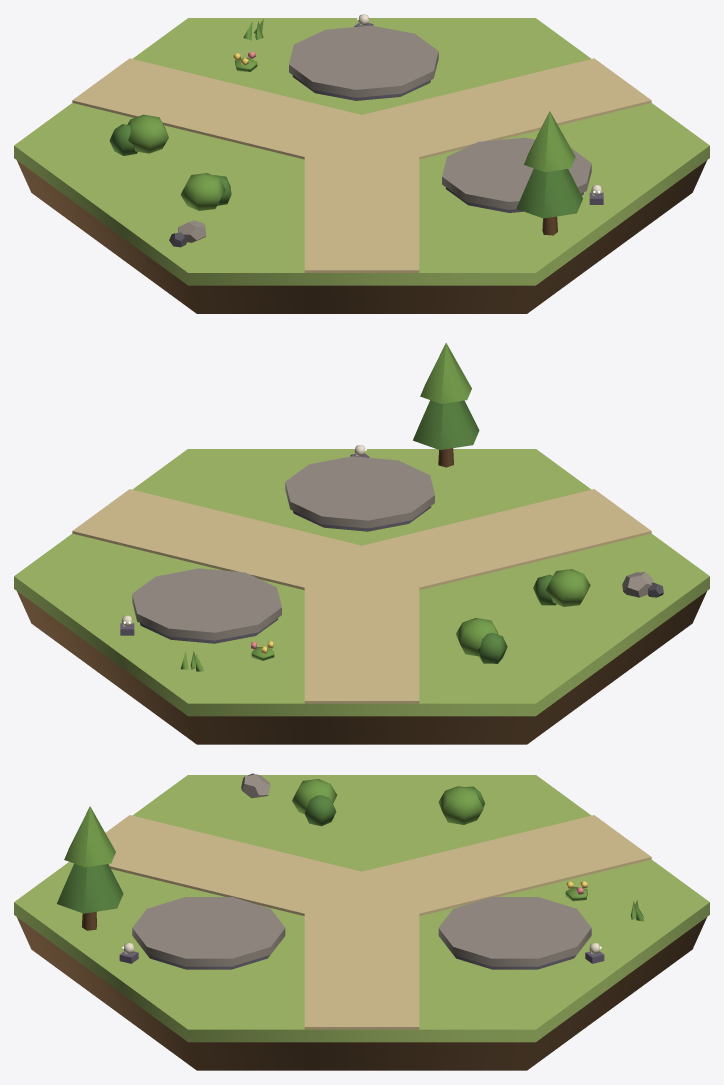
Rendered from tile_soulFork.glb.
The picture shows the model from 3 angles, top to bottom: view 1: azimuth 30°, elevation 25°; view 2: azimuth 150°, elevation 25°; view 3: azimuth 270°, elevation 25°; orthographic projection.
Parts seen in each view (by area): view 1: ground, road, ground_soil, tower_slot_1_plate, tower_slot_2_plate, deco_tree_3_crown, road_hub, deco_tree_3_crown_b, deco_bush_5_a, deco_bush_0_a, deco_bush_0_b, tower_slot_1_socket; view 2: ground, road, ground_soil, tower_slot_2_plate, tower_slot_1_plate, deco_tree_3_crown, road_hub, deco_tree_3_crown_b, deco_bush_5_a, deco_bush_0_a, deco_bush_0_b, deco_stone_2_a; view 3: ground, road, ground_soil, tower_slot_1_plate, tower_slot_2_plate, deco_tree_3_crown, deco_tree_3_crown_b, deco_bush_0_a, road_hub, deco_bush_5_a, deco_bush_5_b, deco_stone_2_a.
Part boxes in pixels (<box>): ground: <box>14,18,709,285</box>; road: <box>72,58,651,272</box>; ground_soil: <box>17,160,706,313</box>; tower_slot_1_plate: <box>289,25,438,97</box>; tower_slot_2_plate: <box>442,137,591,209</box>; deco_tree_3_crown: <box>516,168,582,218</box>; road_hub: <box>308,119,414,167</box>; deco_tree_3_crown_b: <box>524,111,575,172</box>; deco_bush_5_a: <box>180,173,225,210</box>; deco_bush_0_a: <box>127,114,168,153</box>; deco_bush_0_b: <box>109,124,137,155</box>; tower_slot_1_socket: <box>292,75,430,100</box>; ground: <box>14,449,709,716</box>; road: <box>72,489,651,703</box>; ground_soil: <box>17,591,706,744</box>; tower_slot_2_plate: <box>285,456,434,528</box>; tower_slot_1_plate: <box>132,568,281,640</box>; deco_tree_3_crown: <box>413,400,479,449</box>; road_hub: <box>306,549,414,597</box>; deco_tree_3_crown_b: <box>420,343,471,403</box>; deco_bush_5_a: <box>545,569,590,606</box>; deco_bush_0_a: <box>456,618,498,656</box>; deco_bush_0_b: <box>477,633,507,663</box>; deco_stone_2_a: <box>622,572,653,597</box>; ground: <box>14,775,709,1042</box>; road: <box>105,815,651,1029</box>; ground_soil: <box>17,917,706,1070</box>; tower_slot_1_plate: <box>438,897,591,966</box>; tower_slot_2_plate: <box>132,897,285,966</box>; deco_tree_3_crown: <box>57,863,123,913</box>; deco_tree_3_crown_b: <box>64,806,115,867</box>; deco_bush_0_a: <box>438,786,483,824</box>; road_hub: <box>309,878,414,923</box>; deco_bush_5_a: <box>292,779,337,814</box>; deco_bush_5_b: <box>305,795,336,826</box>; deco_stone_2_a: <box>241,774,270,798</box>.
Size of the model in its own units: 1.73 by 0.5356 by 2.
